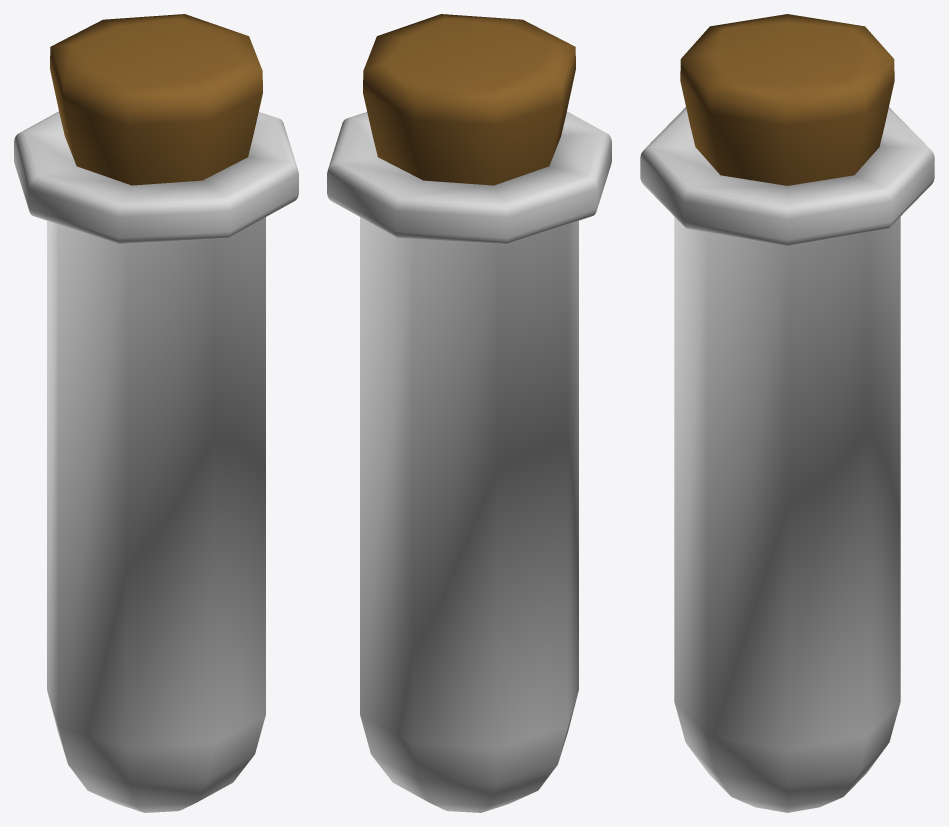
Rendered from Serum.fbx.
3 renders of one model, left to right at view 1: azimuth 30°, elevation 25°; view 2: azimuth 150°, elevation 25°; view 3: azimuth 270°, elevation 25°, orthographic.
Parts seen in each view (by area): view 1: Cylinder, Cylinder.001, Cork; view 2: Cylinder, Cork, Cylinder.001; view 3: Cylinder, Cork, Cylinder.001.
Boxes of the visible parts, x1=… form: Cylinder: x1=14, y1=111, x2=298, y2=812; Cylinder.001: x1=14, y1=164, x2=297, y2=812; Cork: x1=50, y1=14, x2=262, y2=185; Cylinder: x1=327, y1=111, x2=611, y2=812; Cork: x1=363, y1=14, x2=575, y2=185; Cylinder.001: x1=327, y1=141, x2=611, y2=811; Cylinder: x1=640, y1=107, x2=934, y2=812; Cork: x1=680, y1=14, x2=894, y2=185; Cylinder.001: x1=640, y1=160, x2=934, y2=806.
Bounding box in the file's own units: 8.73 × 24.57 × 8.73.
